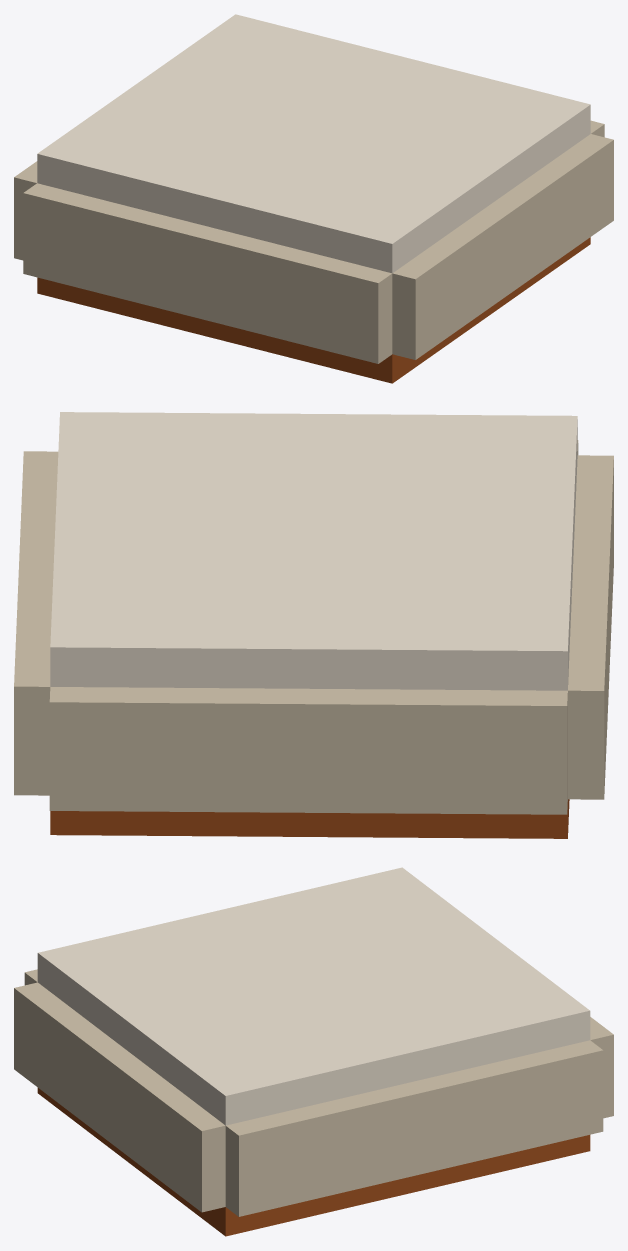
3 renders of one model, top to bottom at view 1: azimuth 30°, elevation 25°; view 2: azimuth 150°, elevation 25°; view 3: azimuth 270°, elevation 25°, orthographic. The views are drawn at different scales.
Parts seen in each view (by area): view 1: Ceiling, Wall_04, Wall_01, Floor, Wall_03; view 2: Ceiling, Wall_03, Wall_04, Floor, Wall_02; view 3: Ceiling, Wall_02, Wall_01, Floor, Wall_03.
Boxes of the visible parts, x1=… form: Ceiling: x1=37, y1=14, x2=590, y2=273; Wall_04: x1=23, y1=183, x2=392, y2=363; Wall_01: x1=392, y1=134, x2=613, y2=359; Floor: x1=37, y1=237, x2=590, y2=383; Wall_03: x1=14, y1=161, x2=37, y2=260; Ceiling: x1=50, y1=412, x2=577, y2=690; Wall_03: x1=49, y1=687, x2=567, y2=814; Wall_04: x1=568, y1=455, x2=613, y2=799; Floor: x1=50, y1=799, x2=569, y2=838; Wall_02: x1=14, y1=451, x2=58, y2=795; Ceiling: x1=37, y1=867, x2=590, y2=1125; Wall_02: x1=225, y1=1040, x2=603, y2=1216; Wall_01: x1=14, y1=982, x2=225, y2=1212; Floor: x1=37, y1=1088, x2=590, y2=1236; Wall_03: x1=590, y1=1017, x2=613, y2=1118.
Size of the model in its own units: 5.41 by 1.42 by 5.51.
